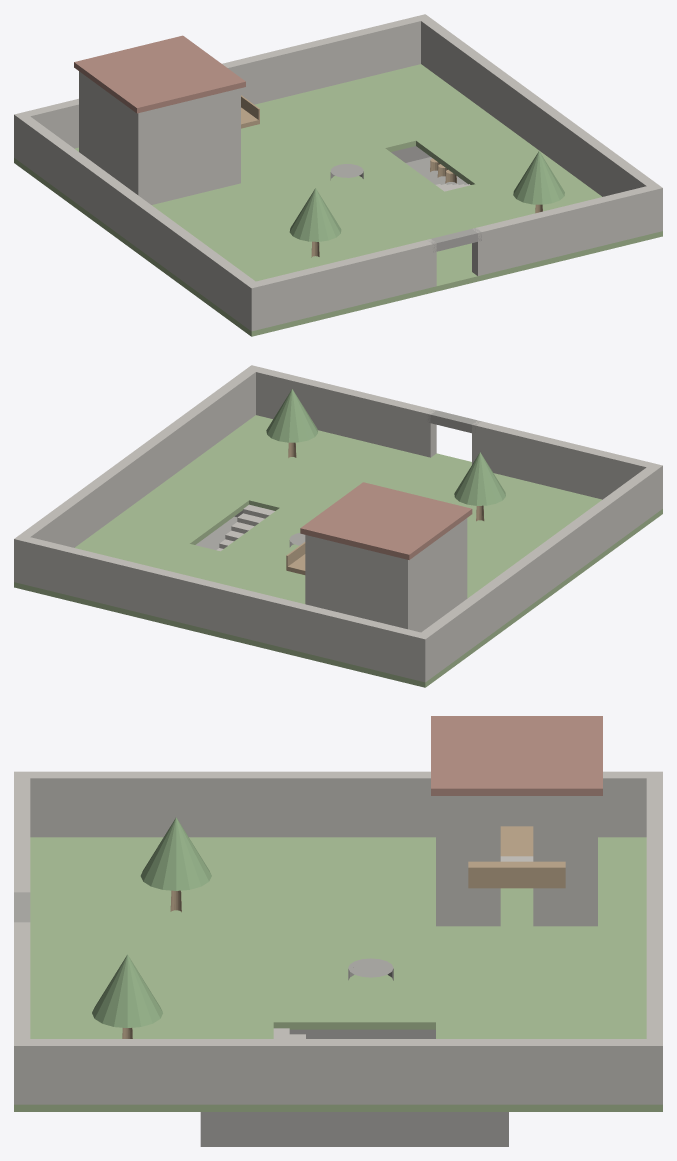
File: ruin.glb
3 views of the same model, one above another, from view 1: azimuth 30°, elevation 25°; view 2: azimuth 150°, elevation 25°; view 3: azimuth 270°, elevation 25° (orthographic). The views are drawn at different scales.
Visible parts, largest first — view 1: stone, grass, roof, leaves, dark stone, wood; view 2: stone, grass, roof, leaves, dark stone, wood; view 3: grass, stone, roof, dark stone, leaves, wood.
Part boxes in pixels (bbox=[...]): stone: bbox=[14, 14, 662, 331]; grass: bbox=[14, 64, 662, 336]; roof: bbox=[74, 35, 245, 113]; leaves: bbox=[289, 151, 564, 241]; dark stone: bbox=[330, 146, 481, 252]; wood: bbox=[241, 95, 542, 257]; stone: bbox=[14, 365, 662, 682]; grass: bbox=[14, 415, 662, 687]; roof: bbox=[300, 482, 472, 559]; leaves: bbox=[266, 389, 505, 505]; dark stone: bbox=[195, 410, 481, 549]; wood: bbox=[286, 442, 484, 574]; grass: bbox=[14, 837, 662, 1111]; stone: bbox=[14, 771, 662, 1104]; roof: bbox=[431, 716, 602, 795]; dark stone: bbox=[14, 892, 508, 1146]; leaves: bbox=[92, 817, 211, 1027]; wood: bbox=[122, 826, 565, 1038].
Size of the model in its own units: 40 by 14 by 40.
